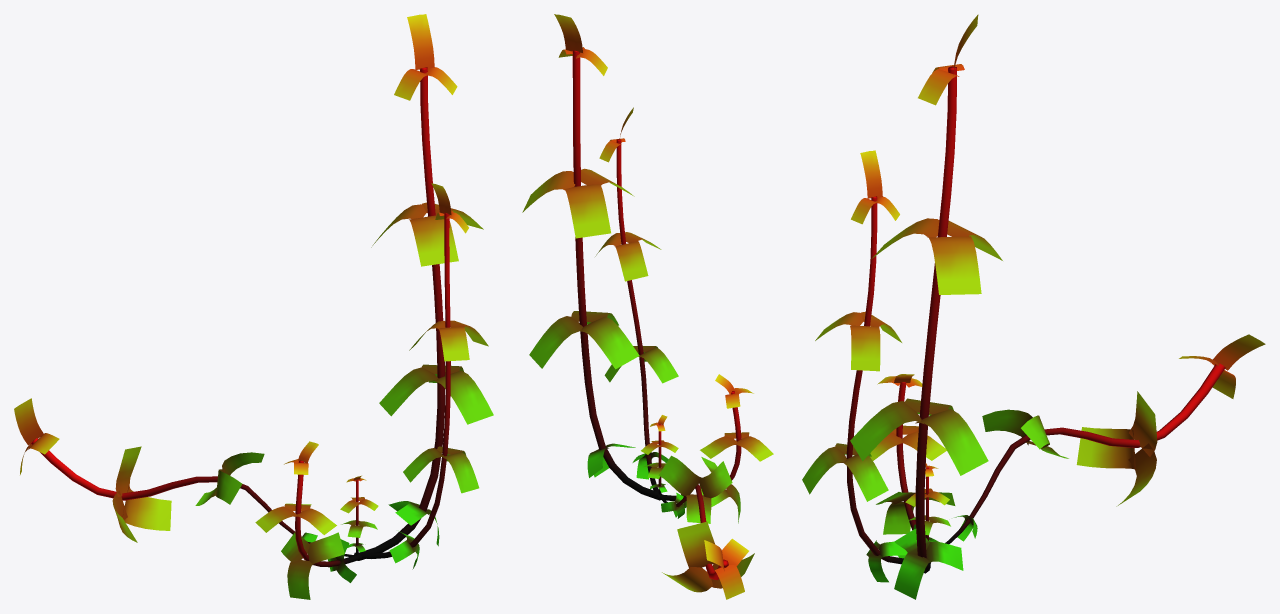
File: grassSet_Brendshape.fbx
3 views of the same model, side by side, from view 1: azimuth 30°, elevation 25°; view 2: azimuth 150°, elevation 25°; view 3: azimuth 270°, elevation 25° (orthographic). The views are drawn at different scales.
Visible parts, largest first — view 1: polySurface72, polySurface80, polySurface5, polySurface76, polySurface131, polySurface74, polySurface85, polySurface13, polySurface94, polySurface91, polySurface11, polySurface1 (+3 smaller); view 2: polySurface72, polySurface80, polySurface76, polySurface11, polySurface5, polySurface85, polySurface1, polySurface91, polySurface74, polySurface129, polySurface94, polySurface84 (+6 smaller); view 3: polySurface72, polySurface80, polySurface76, polySurface5, polySurface13, polySurface85, polySurface84, polySurface94, polySurface91, polySurface11, polySurface1, polySurface88 (+5 smaller).
Part boxes in pixels (<box>): polySurface72: <box>357,67,445,560</box>; polySurface80: <box>379,364,493,424</box>; polySurface5: <box>112,446,171,542</box>; polySurface76: <box>371,202,483,266</box>; polySurface131: <box>281,532,344,599</box>; polySurface74: <box>394,14,457,100</box>; polySurface85: <box>354,212,450,558</box>; polySurface13: <box>31,438,353,556</box>; polySurface94: <box>403,446,479,493</box>; polySurface91: <box>409,320,488,361</box>; polySurface11: <box>195,452,264,505</box>; polySurface1: <box>14,398,59,474</box>; polySurface72: <box>572,50,662,500</box>; polySurface80: <box>529,311,639,369</box>; polySurface76: <box>522,168,634,238</box>; polySurface11: <box>658,455,732,523</box>; polySurface5: <box>662,521,754,592</box>; polySurface85: <box>616,139,661,499</box>; polySurface1: <box>704,538,748,599</box>; polySurface91: <box>595,232,661,281</box>; polySurface74: <box>554,14,607,75</box>; polySurface129: <box>700,432,773,461</box>; polySurface94: <box>604,346,678,383</box>; polySurface84: <box>587,443,635,477</box>; polySurface72: <box>915,66,956,573</box>; polySurface80: <box>850,398,988,475</box>; polySurface76: <box>871,218,1002,294</box>; polySurface5: <box>1076,391,1157,506</box>; polySurface13: <box>945,363,1225,544</box>; polySurface85: <box>846,196,903,564</box>; polySurface84: <box>894,529,963,599</box>; polySurface94: <box>802,443,888,501</box>; polySurface91: <box>815,312,901,371</box>; polySurface11: <box>982,409,1068,458</box>; polySurface1: <box>1179,334,1265,398</box>; polySurface88: <box>851,150,899,224</box>.
Bounding box in the file's own units: 276 × 398 × 278.
